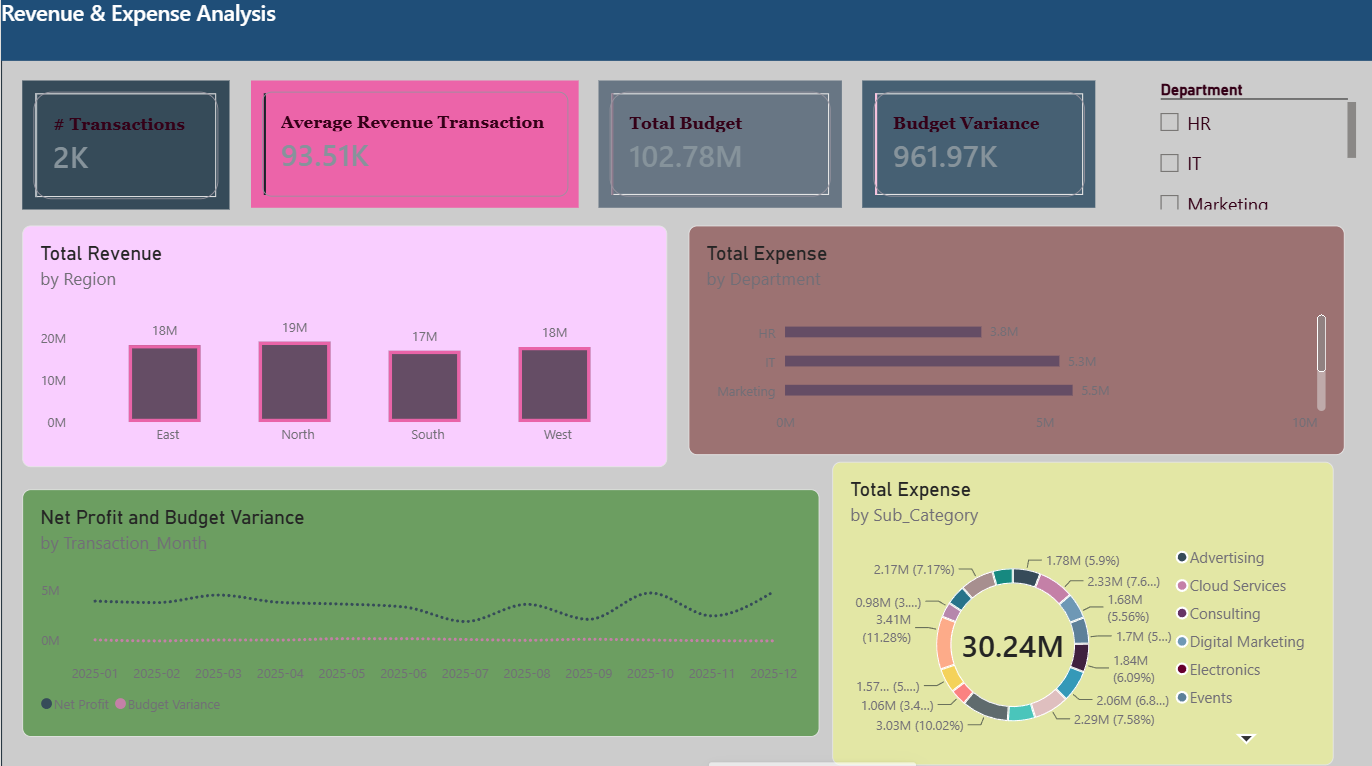

Layout of this report page (visuals, bound fields, positions):
{"tool":"powerbi","page":{"name":"Revenue & Expense Analysis","canvas":[1280,720],"ordinal":2},"visuals":[{"type":"shape","box":[0,57.5,1280,662.5],"z":0,"group":"g1"},{"type":"slicer","title":"Filter: Department","fields":{"Values":["FinancialTransactions.Department"]},"box":[1071.3,76.5,189.2,119.7],"z":1000,"group":"g1"},{"type":"cardVisual","title":"Total Budget","fields":{"Data":["FinancialTransactions.Total Budget"]},"box":[556.2,76.2,226.8,118.3],"z":2000,"group":"g1"},{"type":"textbox","box":[0,0,1280,58],"z":3000,"group":"g1"},{"type":"cardVisual","title":"Average Revenue / Transaction","fields":{"Data":["FinancialTransactions.Average Revenue Transaction"]},"box":[232.5,76.2,305,118.8],"z":4000,"group":"g1"},{"type":"donutChart","title":"Expense by Sub-Category","fields":{"Category":["FinancialTransactions.Sub_Category"],"Y":["FinancialTransactions.Total Expense"]},"box":[773.8,431.2,466.2,282.5],"z":5000,"group":"g1"},{"type":"cardVisual","title":"Budget Variance","fields":{"Data":["FinancialTransactions.Budget Variance"]},"box":[801.2,76.2,217,118.3],"z":6000,"group":"g1"},{"type":"cardVisual","title":"Transactions","fields":{"Data":["FinancialTransactions.# Transactions"]},"box":[20,76.2,192.5,120],"z":7000,"group":"g1"},{"type":"clusteredColumnChart","title":"Revenue by Region","fields":{"Category":["FinancialTransactions.Region"],"Y":["FinancialTransactions.Total Revenue"]},"box":[20,212,600,225],"z":8000,"group":"g1"},{"type":"lineChart","title":"Monthly Net Profit vs Budget Variance","fields":{"Category":["FinancialTransactions.Transaction_Month"],"Y":["FinancialTransactions.Net Profit","FinancialTransactions.Budget Variance"]},"box":[20,457.5,741.2,230],"z":9000,"group":"g1"},{"type":"clusteredBarChart","title":"Expenses by Department","fields":{"Category":["FinancialTransactions.Department"],"Y":["FinancialTransactions.Total Expense"]},"box":[640,211.2,610,213.8],"z":10000,"group":"g1"},{"type":"group","id":"g1","title":"Group 1","box":[0,0,1280,720],"z":10001}]}

Visuals, with their boxes in screenshot pixels (x1, y1, x2, y2), scaled from the page's 1280x720 canvas onto the 1372x766 screenshot:
shape: <region>0, 61, 1371, 765</region>
"Filter: Department" slicer: <region>1148, 81, 1351, 209</region>
"Total Budget" cardVisual: <region>596, 81, 839, 207</region>
textbox: <region>0, 0, 1371, 62</region>
"Average Revenue / Transaction" cardVisual: <region>249, 81, 576, 207</region>
"Expense by Sub-Category" donutChart: <region>829, 459, 1329, 759</region>
"Budget Variance" cardVisual: <region>859, 81, 1091, 207</region>
"Transactions" cardVisual: <region>21, 81, 228, 209</region>
"Revenue by Region" clusteredColumnChart: <region>21, 226, 665, 465</region>
"Monthly Net Profit vs Budget Variance" lineChart: <region>21, 487, 816, 731</region>
"Expenses by Department" clusteredBarChart: <region>686, 225, 1340, 452</region>
"Group 1" group: <region>0, 0, 1371, 765</region>
